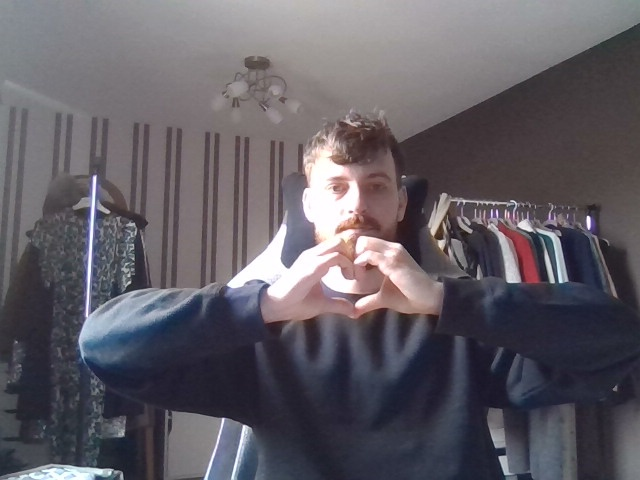Love: (264, 221, 447, 346)
